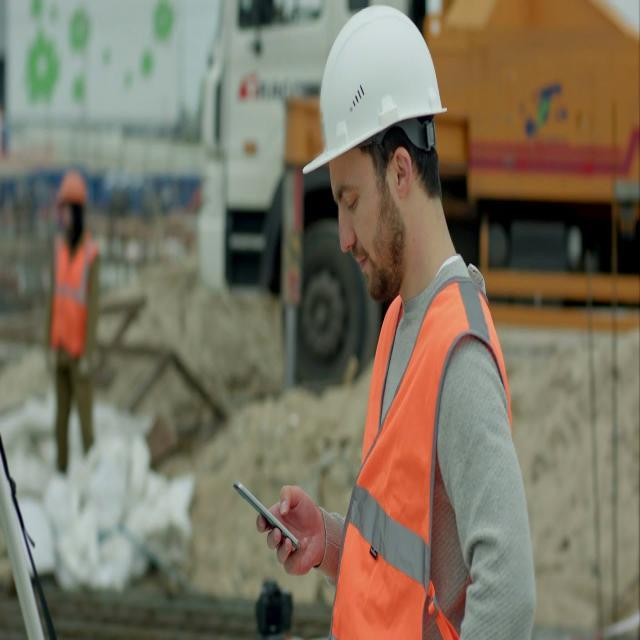reflective_jacket: (326, 264, 525, 635), (46, 229, 100, 370)
safety_helmet: (301, 4, 447, 185), (53, 162, 90, 215)
